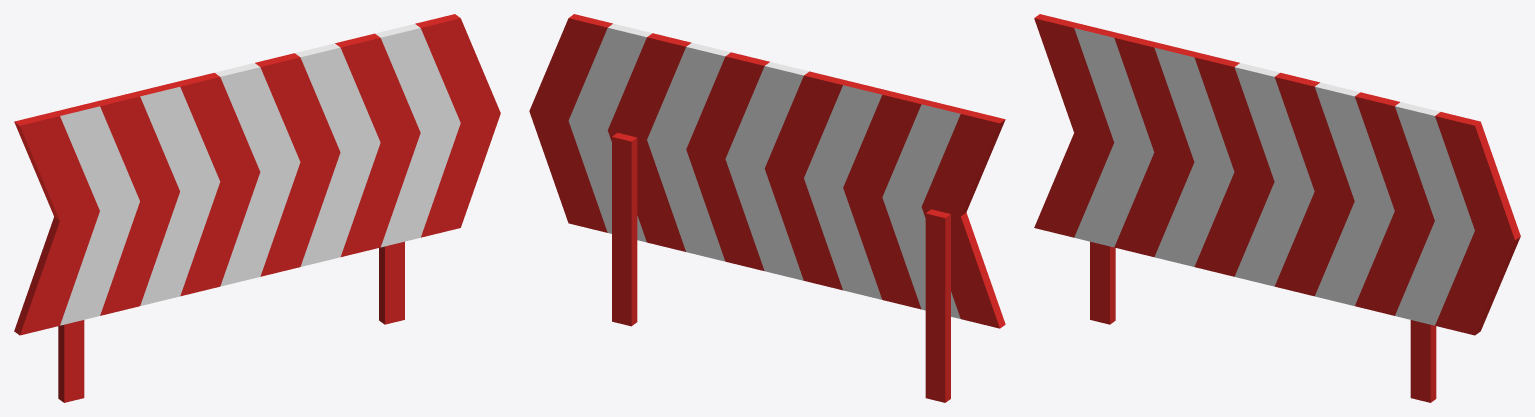
Rendered from sign free.fbx.
The picture shows the model from 3 angles, left to right: view 1: azimuth 30°, elevation 25°; view 2: azimuth 150°, elevation 25°; view 3: azimuth 330°, elevation 25°; orthographic projection. The views are drawn at different scales.
Parts seen in each view (by area): view 1: Sign_free; view 2: Sign_free; view 3: Sign_free.
Part boxes in pixels (<box>): Sign_free: <box>14,14,500,402</box>; Sign_free: <box>529,14,1005,402</box>; Sign_free: <box>1034,14,1520,402</box>.
Size of the model in its own units: 240 by 140 by 10.
